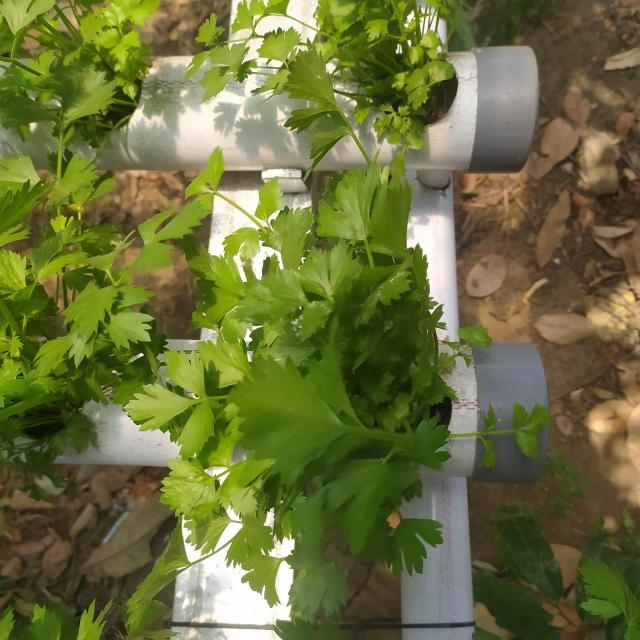Wet Waste: (179, 179, 605, 496), (6, 186, 155, 431), (4, 493, 146, 631)
